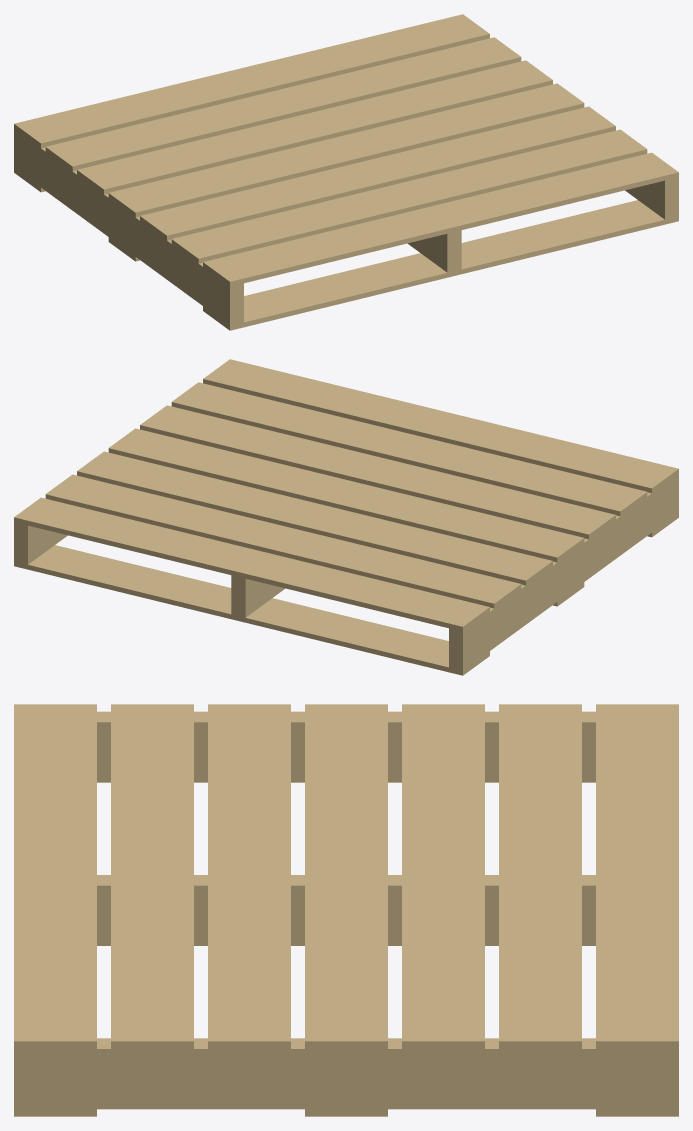
Rendered from pallet.dae.
3 renders of one model, top to bottom at view 1: azimuth 30°, elevation 25°; view 2: azimuth 150°, elevation 25°; view 3: azimuth 270°, elevation 25°, orthographic. The views are drawn at different scales.
Visible parts, largest first — view 1: Pallet-face (×8), Pallet-s-bar (×3); view 2: Pallet-face (×8), Pallet-s-bar (×3); view 3: Pallet-face (×10), Pallet-s-bar (×3).
Part boxes in pixels (bbox=[...]): Pallet-face (×8): bbox=[14, 14, 678, 330]; Pallet-s-bar (×3): bbox=[14, 129, 678, 325]; Pallet-face (×8): bbox=[14, 359, 678, 675]; Pallet-s-bar (×3): bbox=[14, 474, 678, 670]; Pallet-face (×10): bbox=[14, 704, 678, 1116]; Pallet-s-bar (×3): bbox=[14, 711, 678, 1109].
Size of the model in its own units: 48 by 40 by 5.
